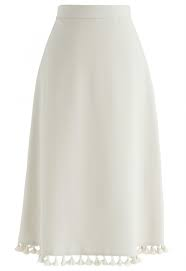C_skirt: (8, 2, 183, 266)
